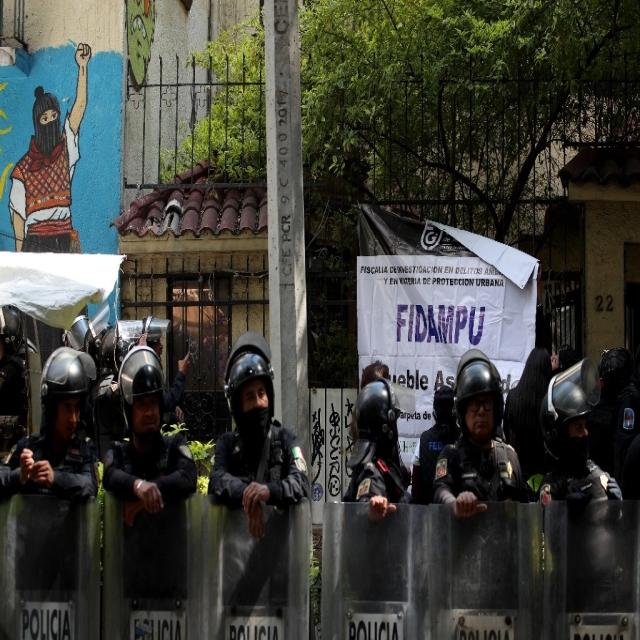stamps: (357, 258, 538, 468)
